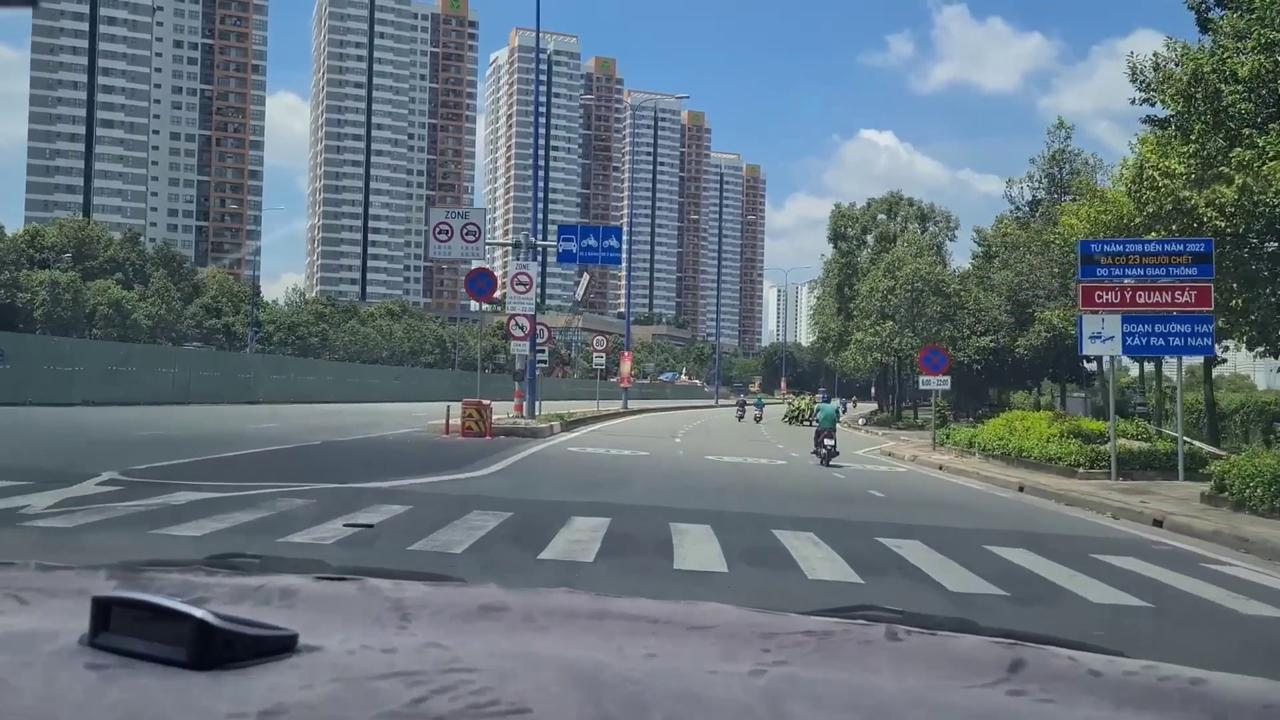Biển phụ: (918, 376, 951, 389), (533, 346, 549, 368), (510, 340, 530, 356), (594, 353, 606, 369)
Cấm cac phương tiện hoạt động trong khung giờ cố định: (427, 206, 486, 260), (507, 260, 536, 314)
Cấm dừng - Cấm đỗ: (464, 266, 498, 304), (916, 342, 952, 376)
Cấm xe máy: (505, 312, 533, 340)
GIơi hạn tốc độ 60Km/h: (532, 321, 550, 346)
Giới hạn tốc độ 80Km/h: (592, 333, 609, 352)
Khác: (1076, 236, 1216, 357)
Làn đường cho từng xe: (556, 223, 622, 266)
